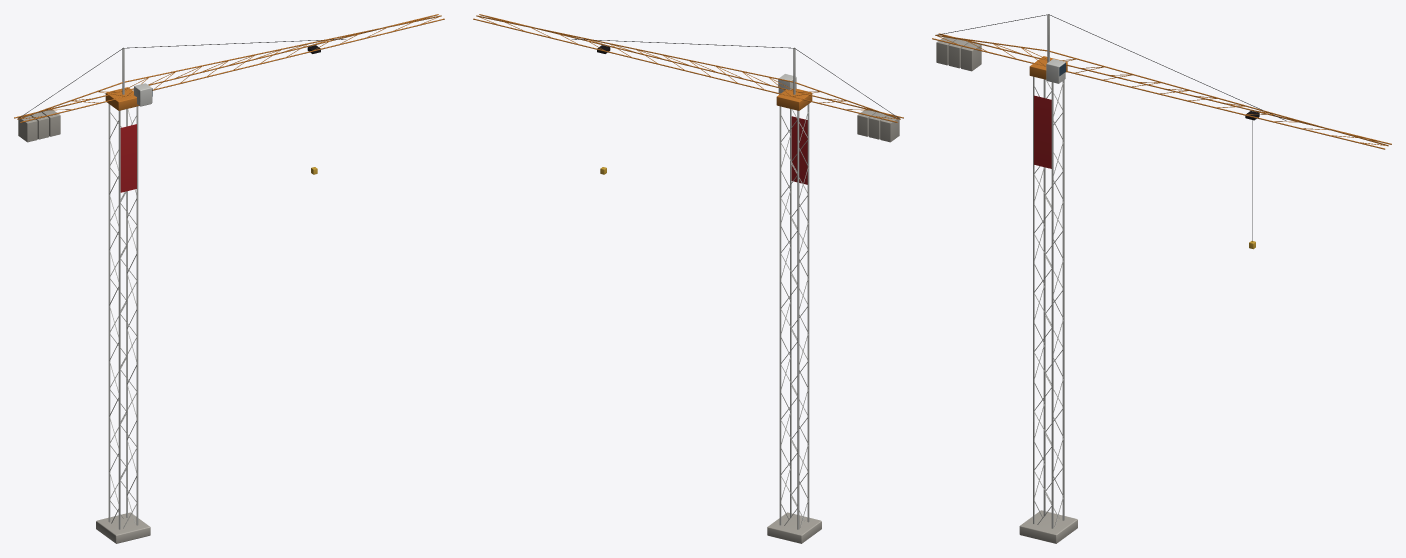
File: CraneMIA.fbx
3 renders of one model, left to right at view 1: azimuth 30°, elevation 25°; view 2: azimuth 150°, elevation 25°; view 3: azimuth 330°, elevation 25°, orthographic. The views are drawn at different scales.
Visible parts, largest first — view 1: CraneMIA; view 2: CraneMIA; view 3: CraneMIA.
Boxes of the visible parts, <box> form: CraneMIA: <box>14,14,444,543</box>; CraneMIA: <box>473,14,903,543</box>; CraneMIA: <box>932,14,1391,543</box>.
Size of the model in its own units: 48.01 by 52.41 by 4.
